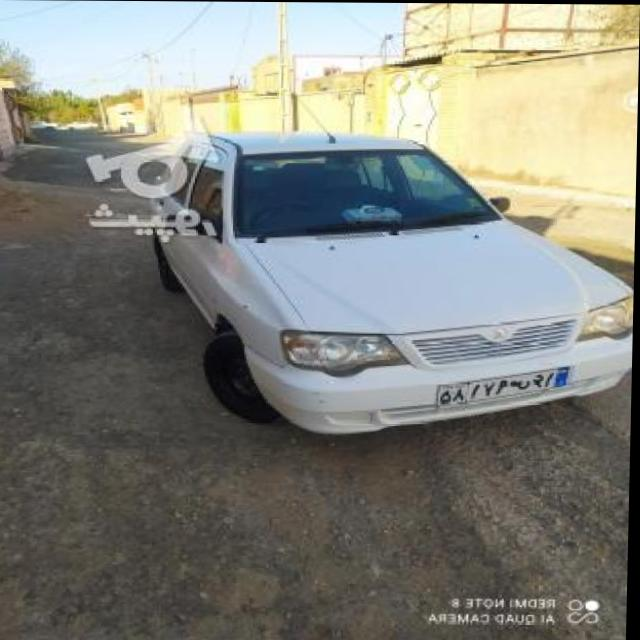licence: (434, 363, 572, 409)
